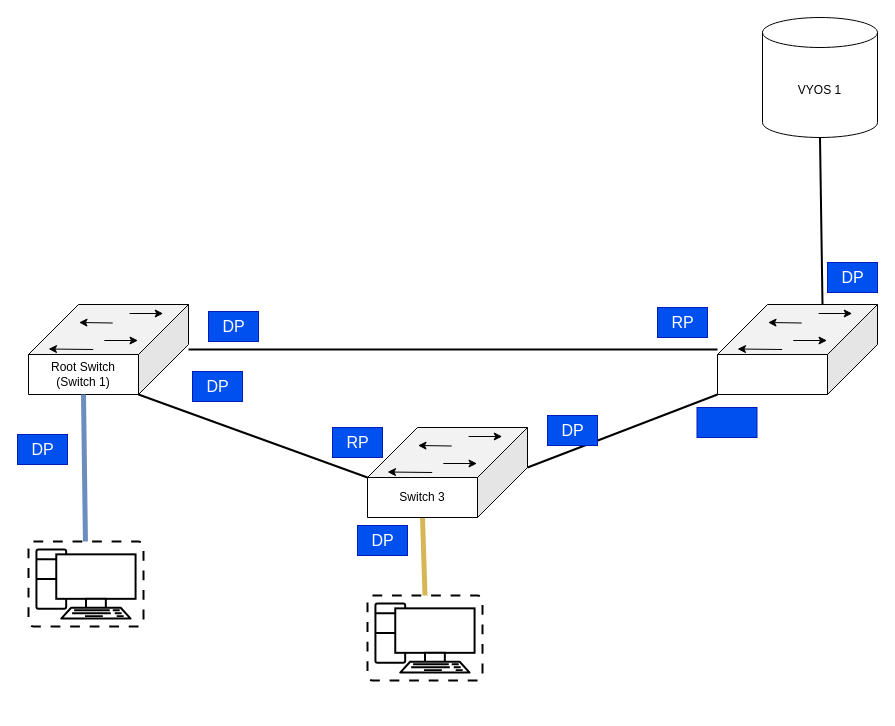
Image size: 895x726. Some labels were removed from this diagram. Each missing label, with the centre of its shape:
AP/B: the point at 726,422
Lubuntu1: the point at 85,583
Lubuntu2: the point at 424,637
Switch2: the point at 797,349
